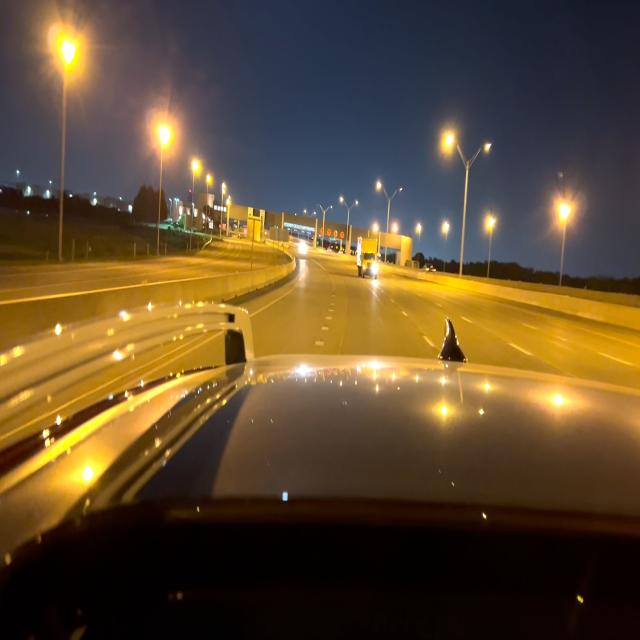back-of-sign: (249, 217, 261, 242)
